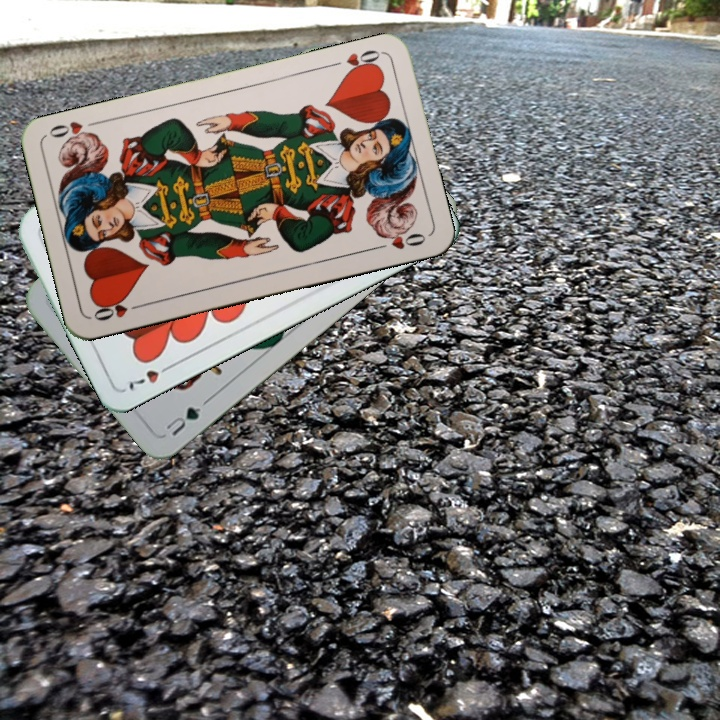GU: (160, 402, 204, 439)
H7: (124, 360, 177, 394)
HO: (326, 45, 384, 78), (89, 295, 147, 324)
